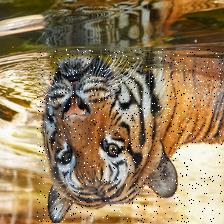tiger: (37, 48, 224, 222)
